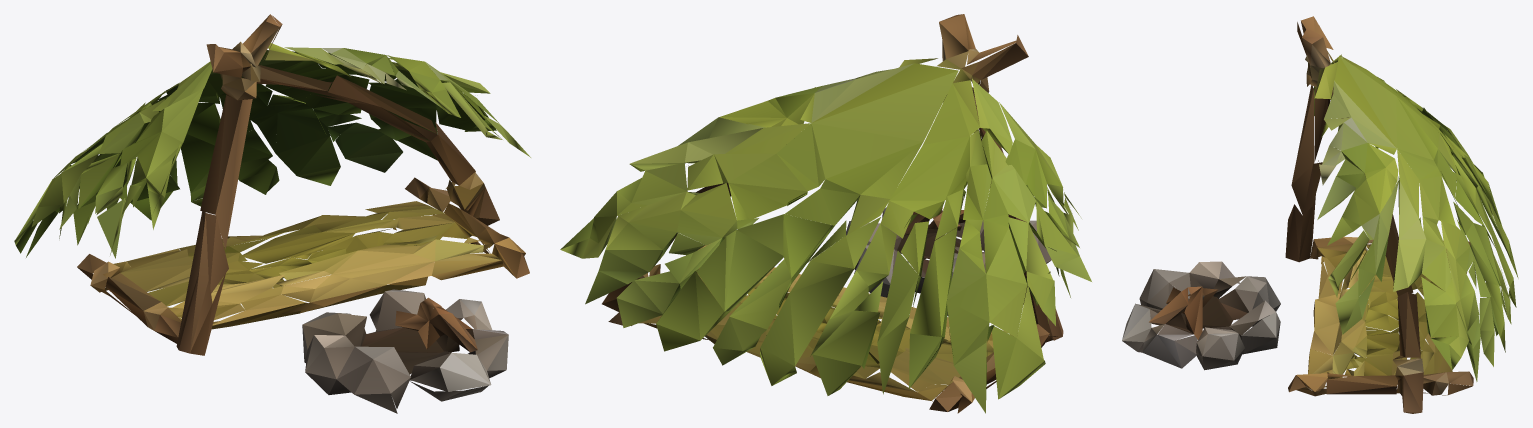
Rendered from building-campsite.glb.
The picture shows the model from 3 angles, left to right: view 1: azimuth 30°, elevation 25°; view 2: azimuth 150°, elevation 25°; view 3: azimuth 270°, elevation 25°; orthographic projection. The views are drawn at different scales.
Visible parts, largest first — view 1: 0_campsite; view 2: 0_campsite; view 3: 0_campsite.
Boxes of the visible parts, x1=… form: 0_campsite: x1=14, y1=14, x2=530, y2=413; 0_campsite: x1=560, y1=14, x2=1091, y2=413; 0_campsite: x1=1122, y1=16, x2=1518, y2=413.
Bounding box in the file's own units: 1.99 × 1.29 × 1.67.
